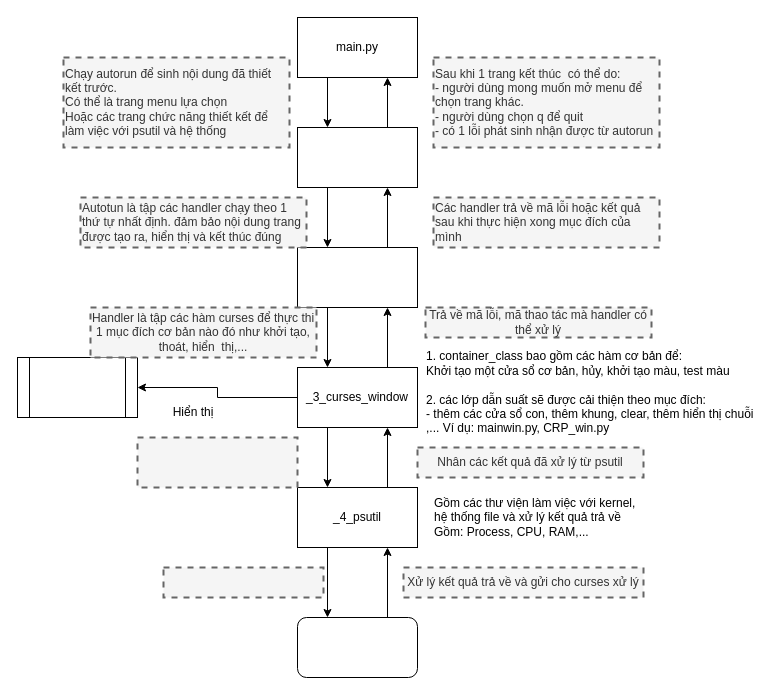
This 781x695 diagram has some shape labels left out. The shapes that lost their labels are listed below. From the top down, each one's centre as x and y in pixels, then its label:
At (x=357, y=157): "_1_autorun".
At (x=357, y=277): "_2_window_handler".
At (x=77, y=387): "TERMINAL".
At (x=217, y=462): "1. Yêu cầu psutil thực thi một số lệnh để lấy thông tin hiển thị".
At (x=243, y=582): "1.Lấy thông tin sẵn có 2.Yêu cầu, lệnh thực thi".
At (x=357, y=647): "KERNEL MODE".
